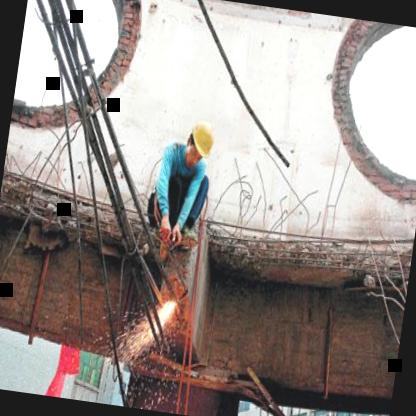helmet: (184, 115, 217, 172)
